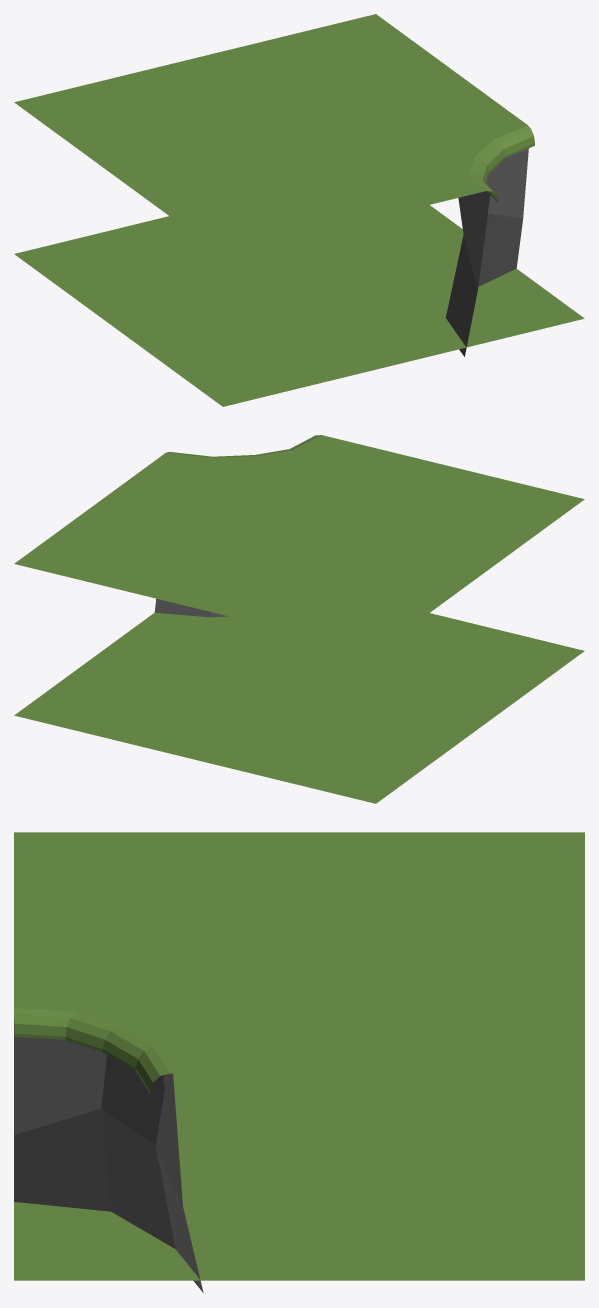
Rendered from cliff_inner_corner_L1.fbx.
3 views of the same model, one above another, from view 1: azimuth 30°, elevation 25°; view 2: azimuth 150°, elevation 25°; view 3: azimuth 270°, elevation 25° (orthographic). The views are drawn at different scales.
Parts seen in each view (by area): view 1: Plane.025; view 2: Plane.025; view 3: Plane.025.
Boxes of the visible parts, <box> form: Plane.025: <box>14,14,584,406</box>; Plane.025: <box>14,435,584,803</box>; Plane.025: <box>14,832,584,1292</box>.
Bounding box in the file's own units: 200 × 200 × 85.42.
